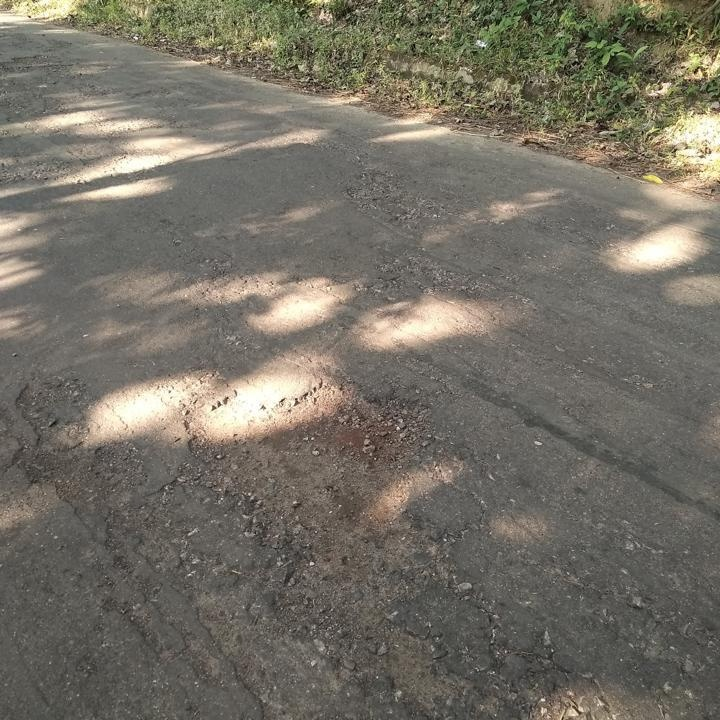pothole: (185, 370, 443, 637)
